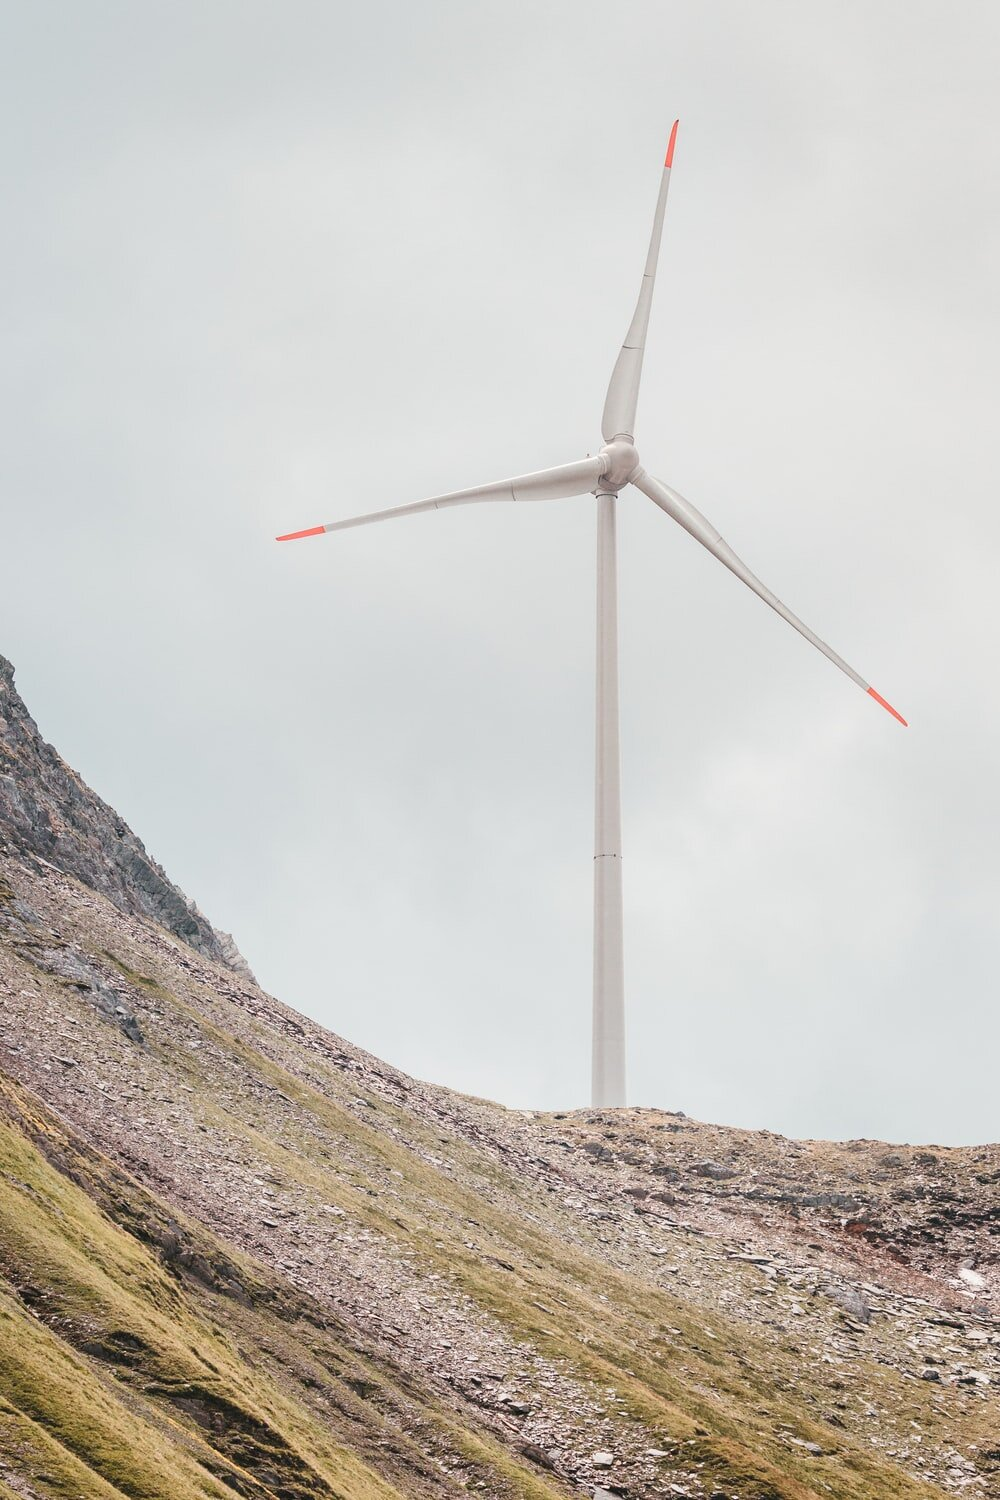working: (266, 121, 925, 879)
